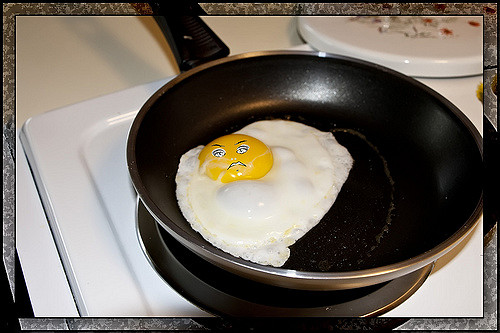fried egg: (173, 129, 360, 264)
